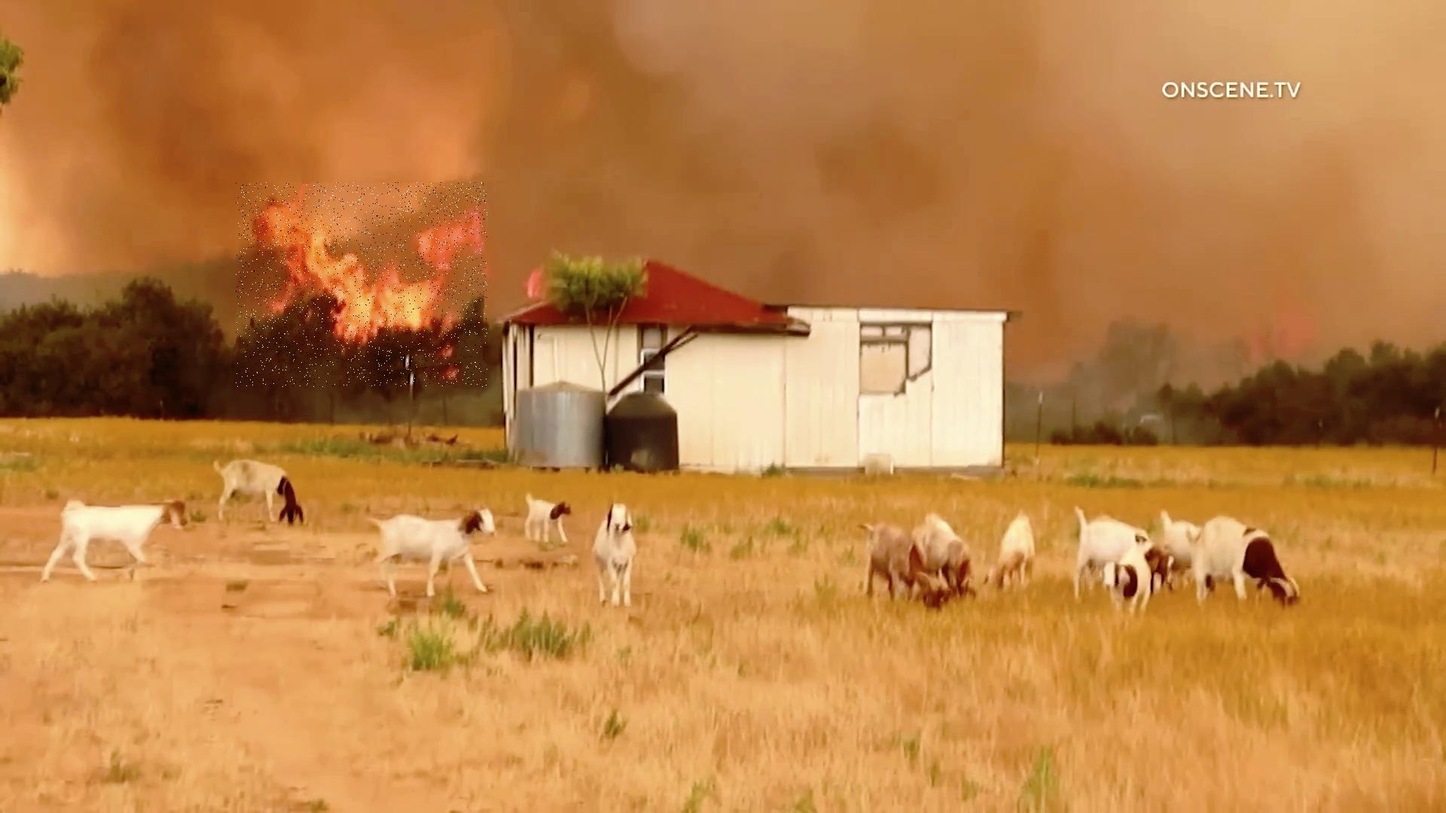fire: (236, 183, 487, 387)
